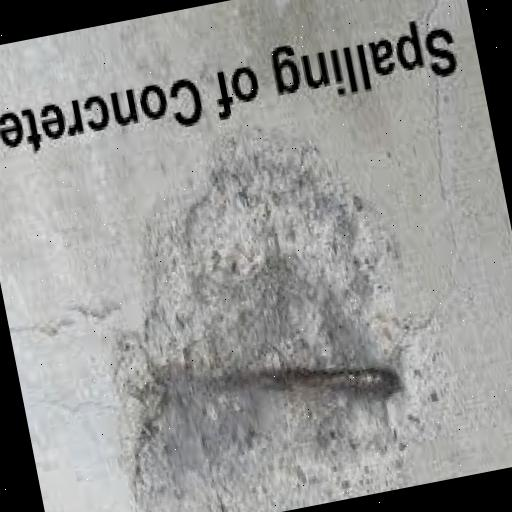spalling: (121, 151, 423, 512)
